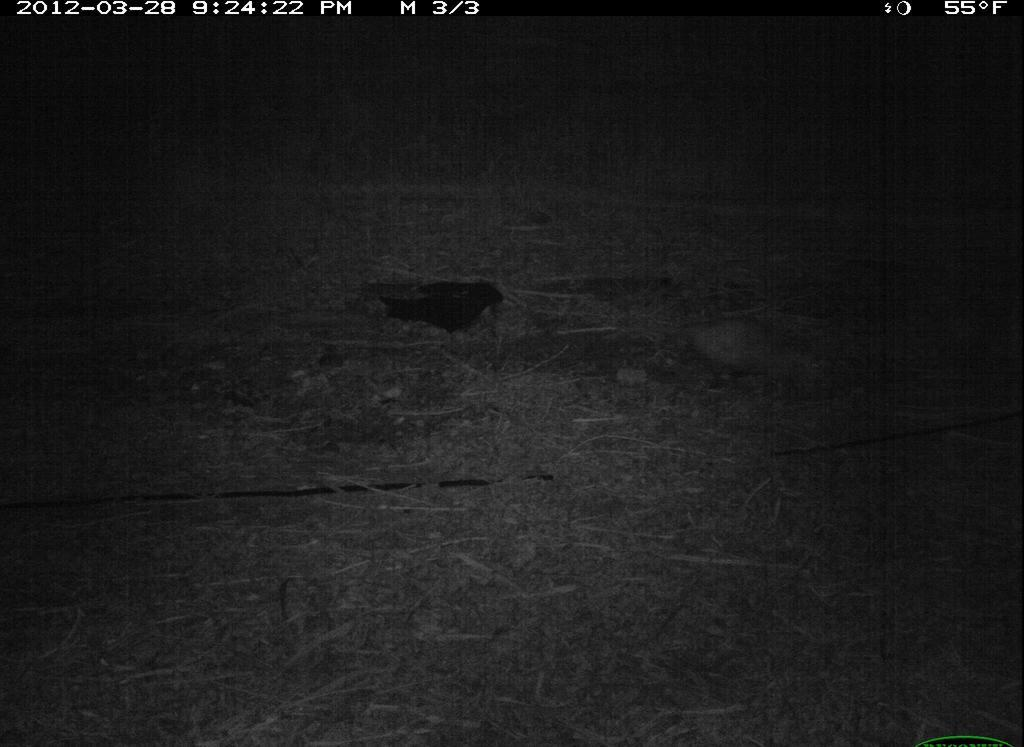opossum: (649, 299, 829, 409)
